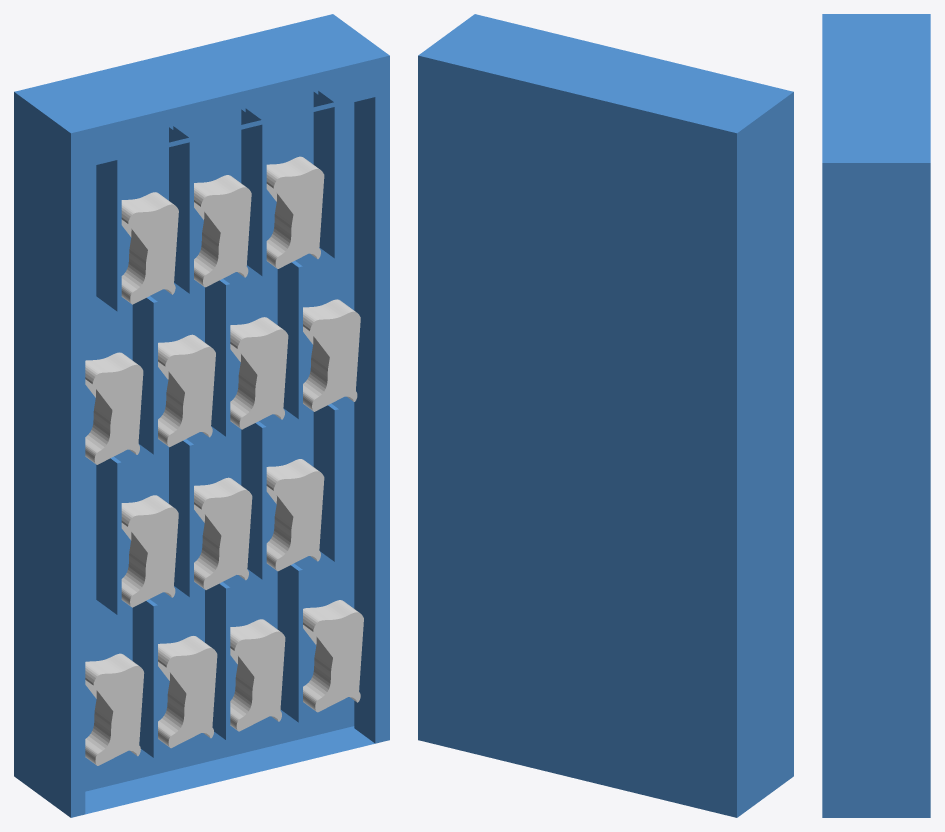
Rendered from Board.fbx.
3 views of the same model, side by side, from view 1: azimuth 30°, elevation 25°; view 2: azimuth 150°, elevation 25°; view 3: azimuth 270°, elevation 25° (orthographic). The views are drawn at different scales.
Parts seen in each view (by area): view 1: Board, Board.030, BezierCurve.011, BezierCurve.013, BezierCurve.014, BezierCurve.007, BezierCurve, BezierCurve.010, BezierCurve.004, BezierCurve.009, BezierCurve.006, BezierCurve.002 (+18 smaller); view 2: Board; view 3: Board.
Part boxes in pixels (x1=…): Board: x1=14, y1=14, x2=389, y2=817; Board.030: x1=354, y1=97, x2=375, y2=743; BezierCurve.011: x1=303, y1=600, x2=363, y2=712; BezierCurve.013: x1=158, y1=636, x2=217, y2=748; BezierCurve.014: x1=85, y1=653, x2=144, y2=765; BezierCurve.007: x1=85, y1=352, x2=143, y2=464; BezierCurve: x1=230, y1=317, x2=288, y2=429; BezierCurve.010: x1=266, y1=459, x2=324, y2=571; BezierCurve.004: x1=266, y1=156, x2=324, y2=268; BezierCurve.009: x1=194, y1=477, x2=252, y2=589; BezierCurve.006: x1=158, y1=334, x2=215, y2=447; BezierCurve.002: x1=121, y1=192, x2=178, y2=304; Board: x1=418, y1=14, x2=793, y2=817; Board: x1=822, y1=14, x2=930, y2=817.
Bounding box in the file's own units: 220 × 451 × 67.81.
